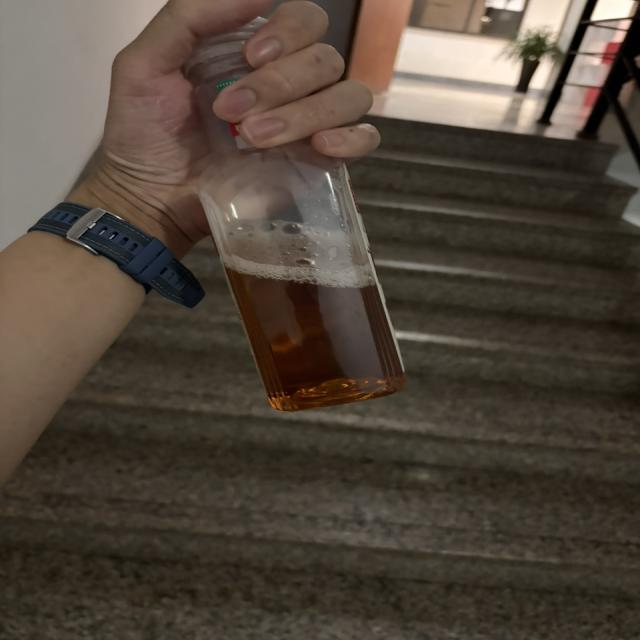medium: (184, 18, 403, 411)
